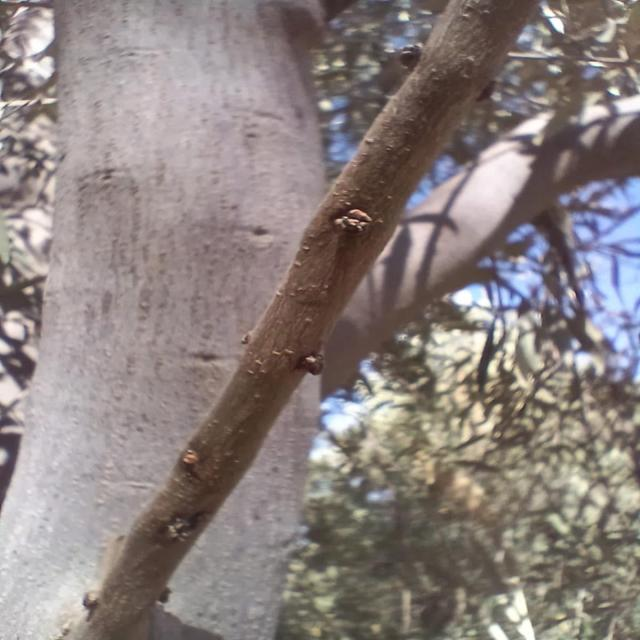Tuberculosis: (329, 207, 372, 239), (293, 352, 323, 376)
